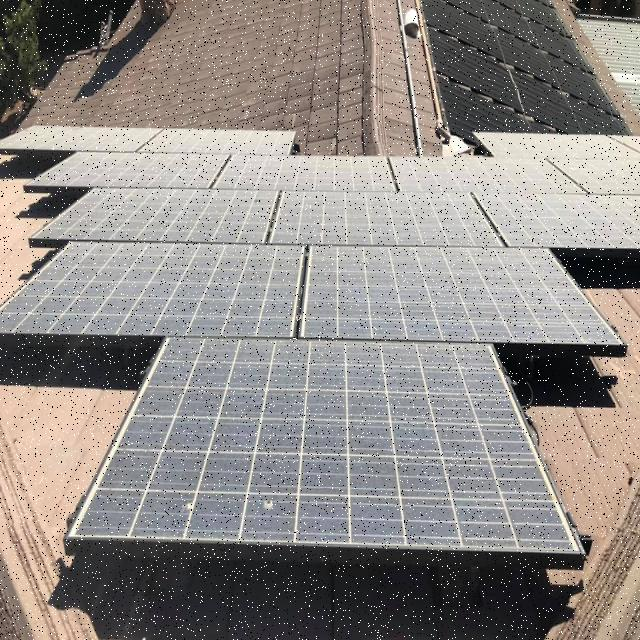dusty: (5, 126, 638, 547)
